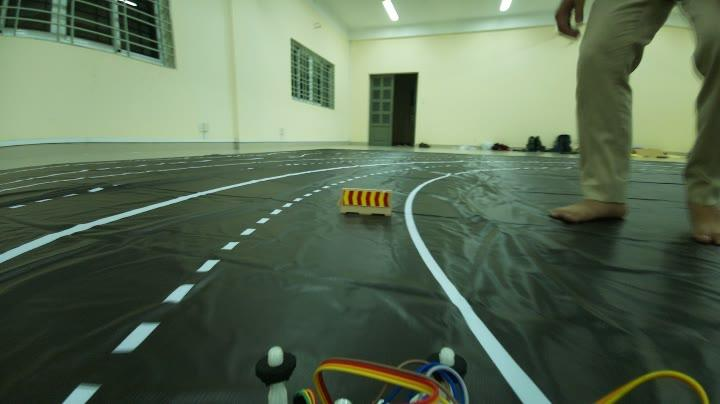roadblock: (333, 184, 406, 223)
